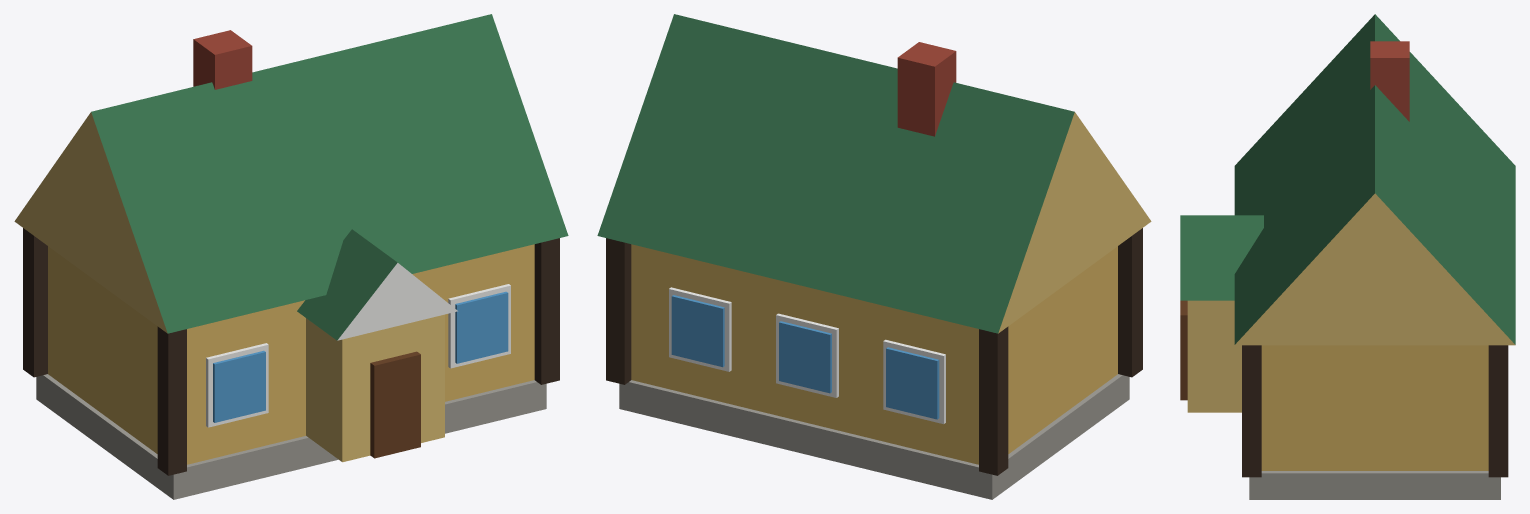
Rendered from 74_lithuanian_troba_4.obj.
3 views of the same model, side by side, from view 1: azimuth 30°, elevation 25°; view 2: azimuth 150°, elevation 25°; view 3: azimuth 270°, elevation 25° (orthographic). The views are drawn at different scales.
Parts seen in each view (by area): view 1: 74_lithuanian_troba_4; view 2: 74_lithuanian_troba_4; view 3: 74_lithuanian_troba_4.
Part boxes in pixels (<box>): 74_lithuanian_troba_4: <box>14,14,568,499</box>; 74_lithuanian_troba_4: <box>597,14,1151,499</box>; 74_lithuanian_troba_4: <box>1180,14,1515,499</box>.
Bounding box in the file's own units: 1.72 × 1.52 × 1.36.
